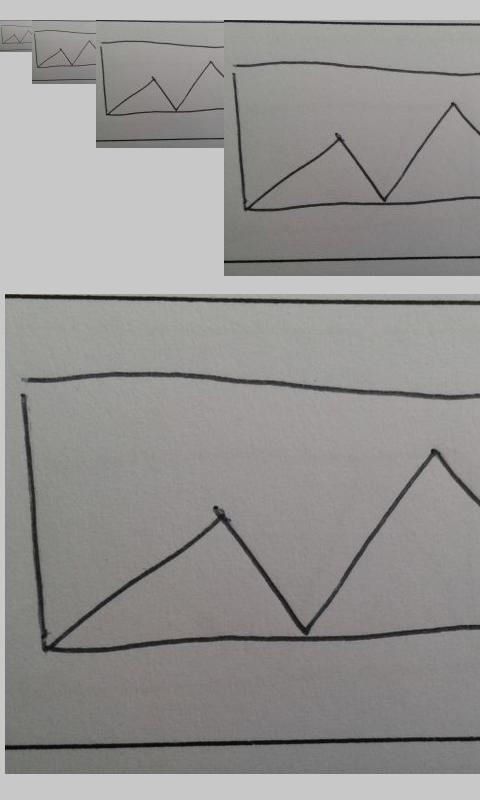image_view: (15, 369, 479, 658), (231, 59, 480, 213), (99, 40, 226, 117), (34, 30, 96, 69), (1, 24, 33, 45)
